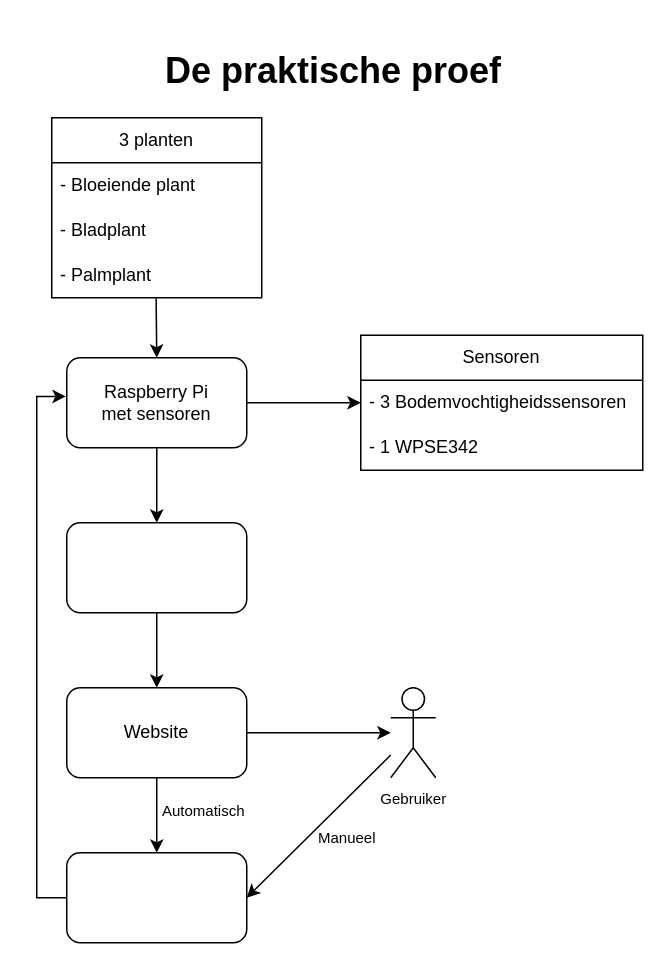
Image size: 669x969. Some labels were removed from this diagram. Each missing label, with the centre of its shape:
"Data" belongs at (156,567).
"Reageert" belongs at (156,897).
